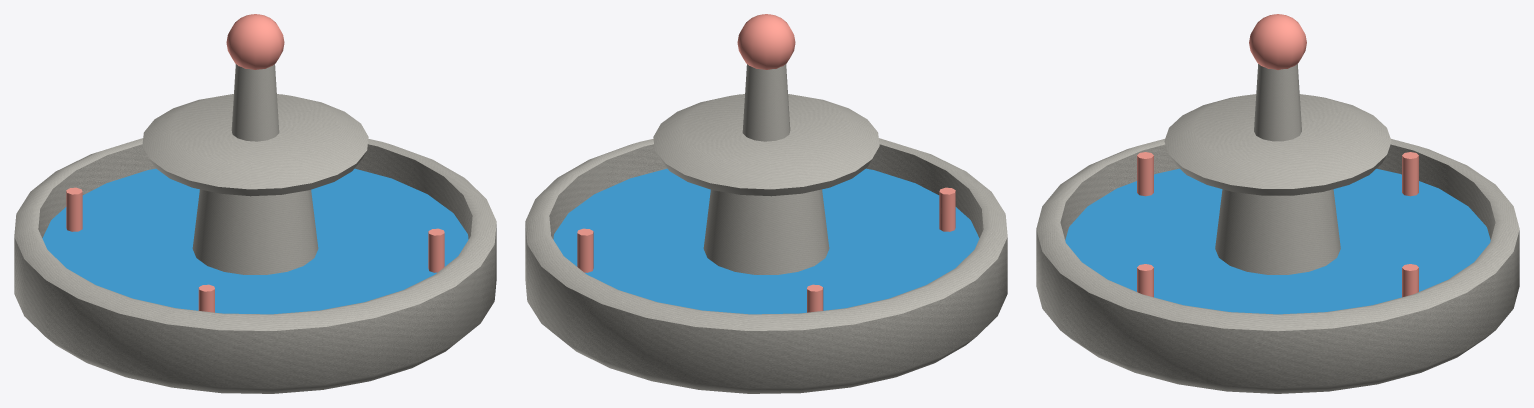
The model's file is hero-shooter-harbour-payload-harbour-fountain-9e592907__27717.glb.
3 views of the same model, side by side, from view 1: azimuth 30°, elevation 25°; view 2: azimuth 150°, elevation 25°; view 3: azimuth 270°, elevation 25° (orthographic).
Parts seen in each view (by area): view 1: harbour-fountain; view 2: harbour-fountain; view 3: harbour-fountain.
Boxes of the visible parts, x1=… form: harbour-fountain: x1=14, y1=14, x2=496, y2=393; harbour-fountain: x1=525, y1=14, x2=1007, y2=393; harbour-fountain: x1=1036, y1=14, x2=1519, y2=393.
Size of the model in its own units: 4 by 2.56 by 4.
Materials: 3 (1 with a texture image).
